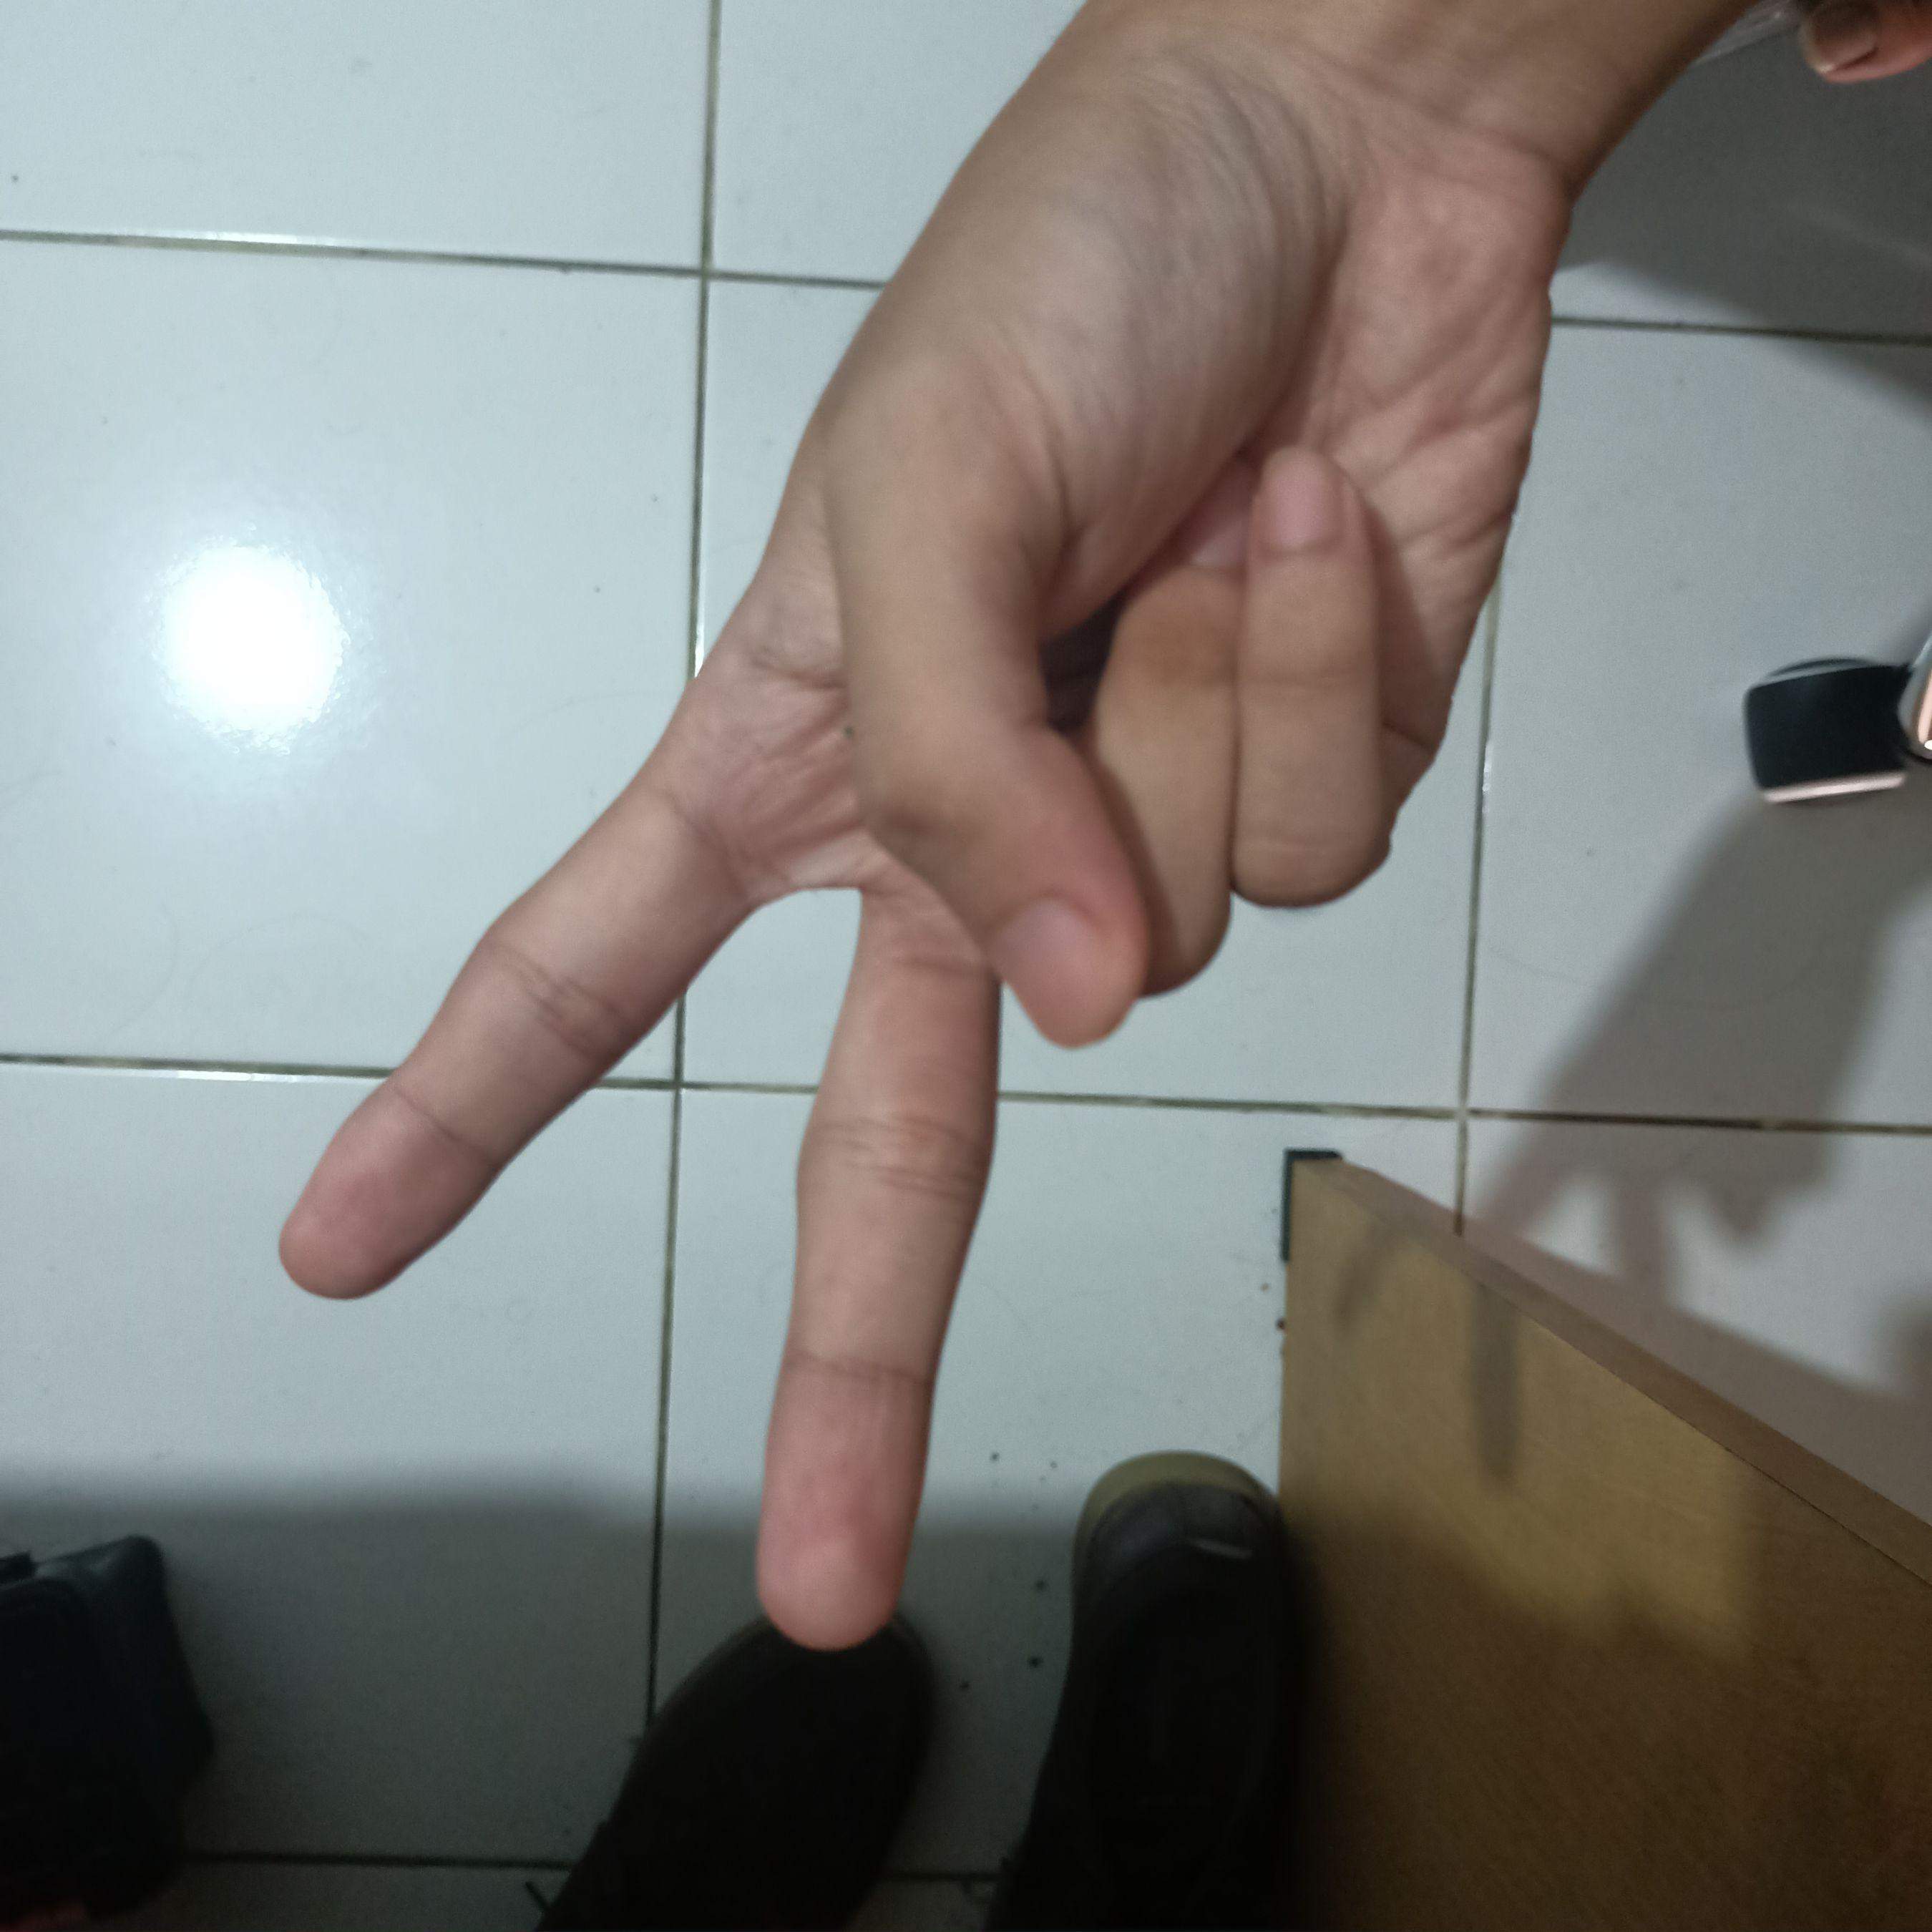scissors: (223, 35, 1578, 1706)
